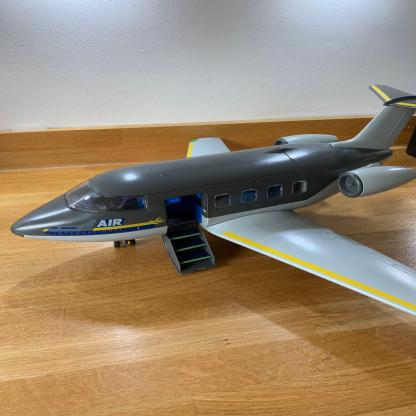CIV_Plane: (10, 81, 415, 326)
